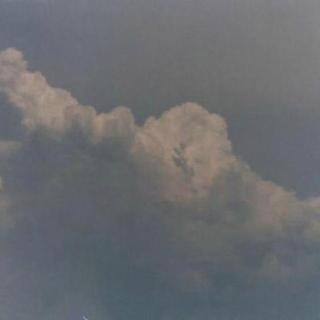Cirrostratus: (0, 44, 320, 311)
